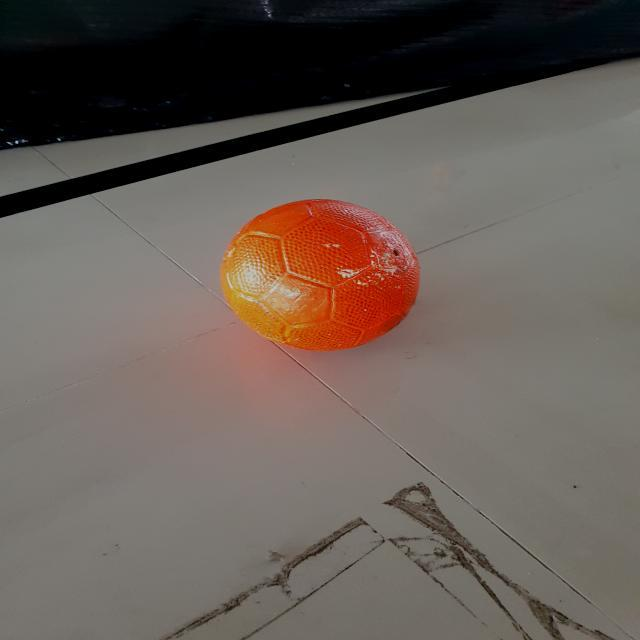bola: (195, 196, 433, 364)
